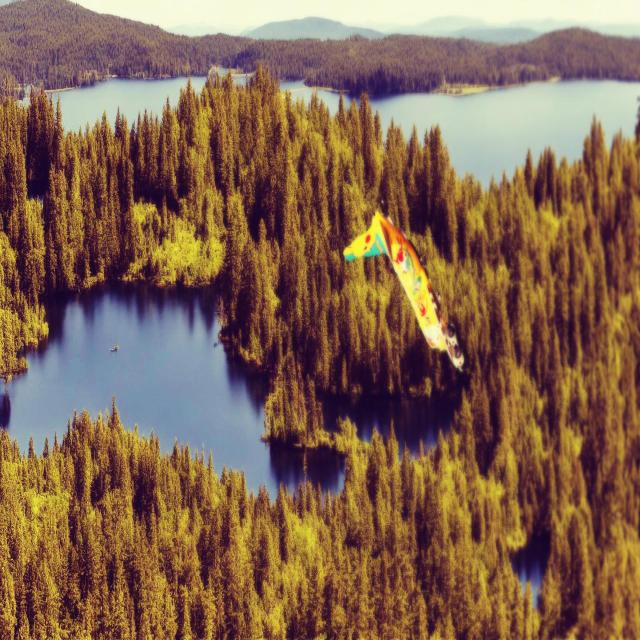airplane: (343, 207, 465, 374)
